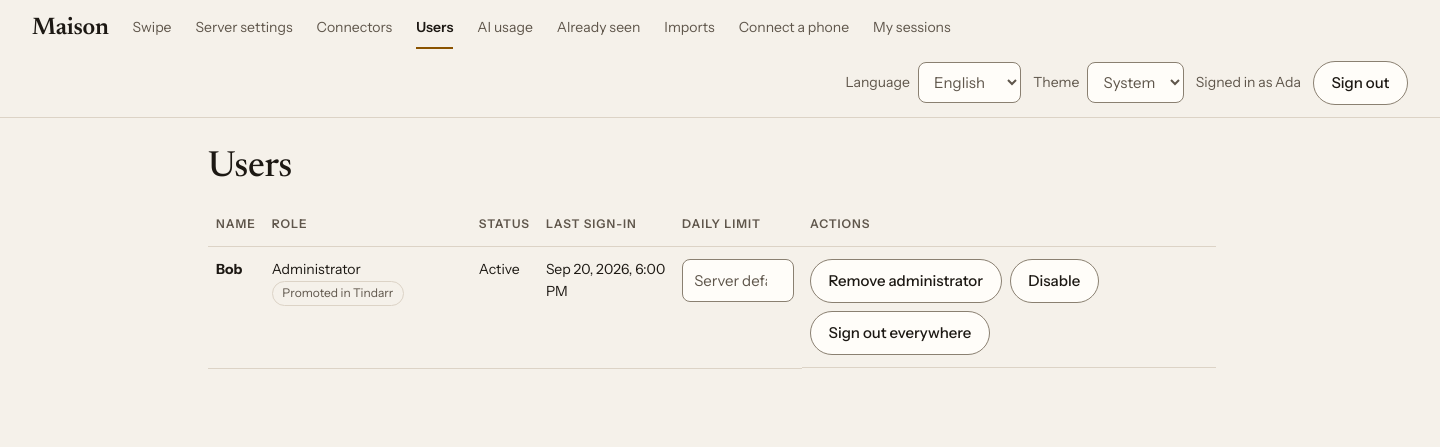
Test case: the users page › refuses to demote the last administrator, with the server's reason
Click the button "Remove administrator" at (906, 281), box left=810, top=259, right=1002, bottom=303
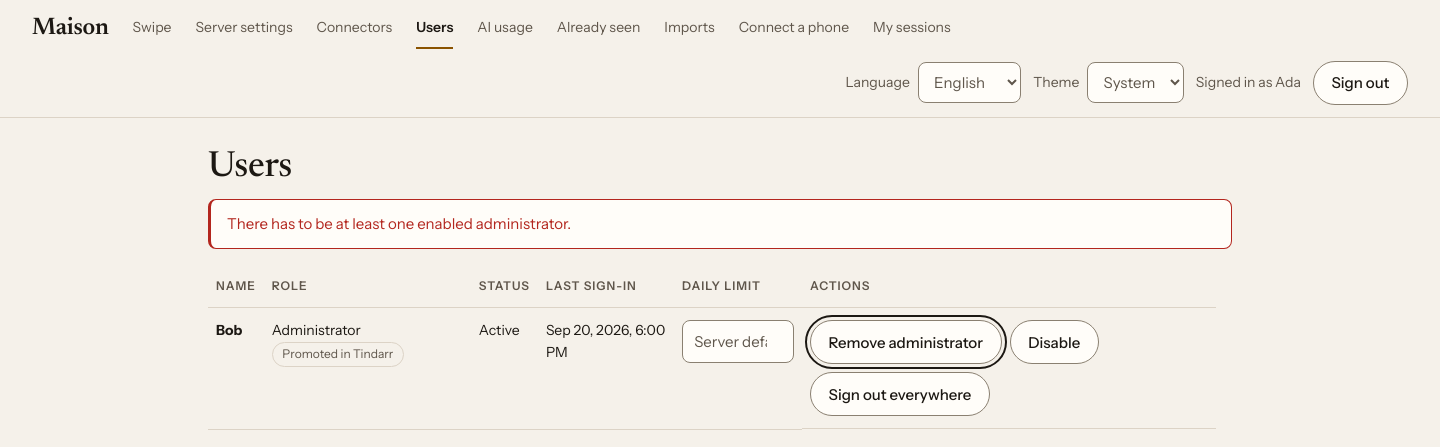
Expected: the message reads "There has to be at least one enabled administrator.", left=227, top=214, right=571, bottom=234
